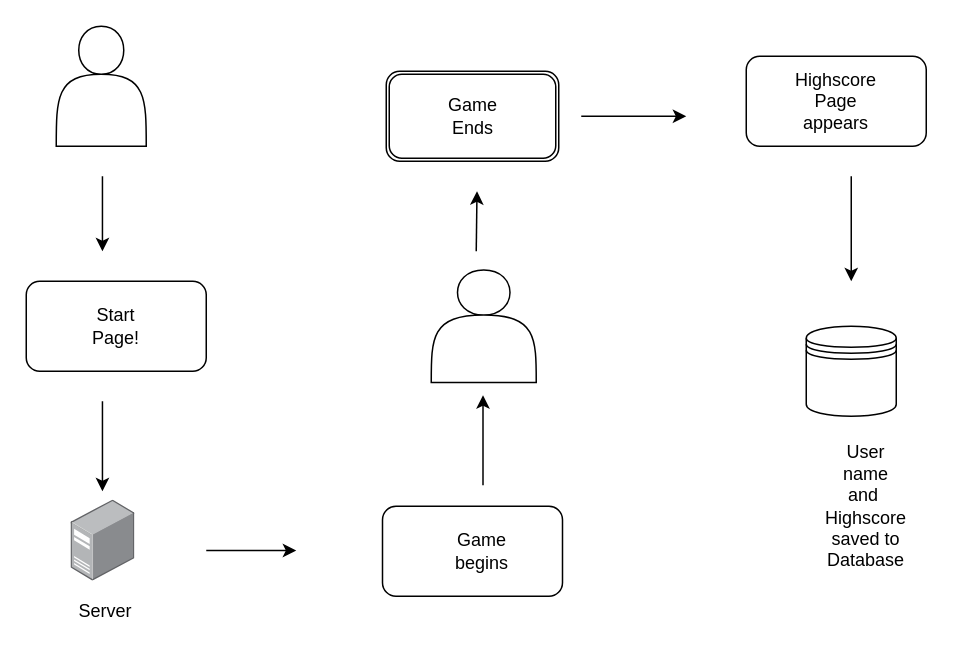
Image size: 953x653. Some labels were removed from this diagram. Each missing label, with the centre of its shape:
User: (100,85)
User plays game: (483,325)
